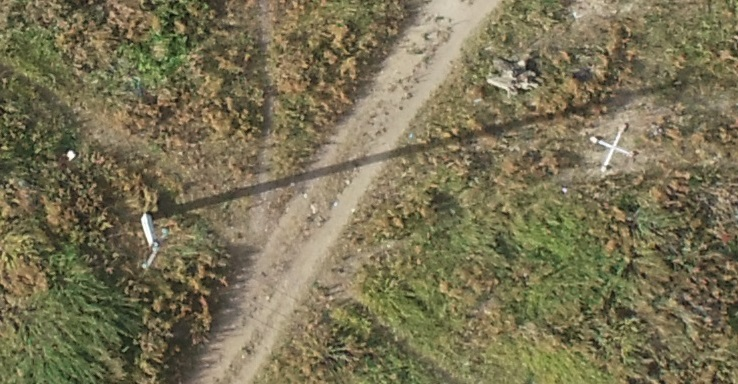opora: (139, 190, 257, 272)
